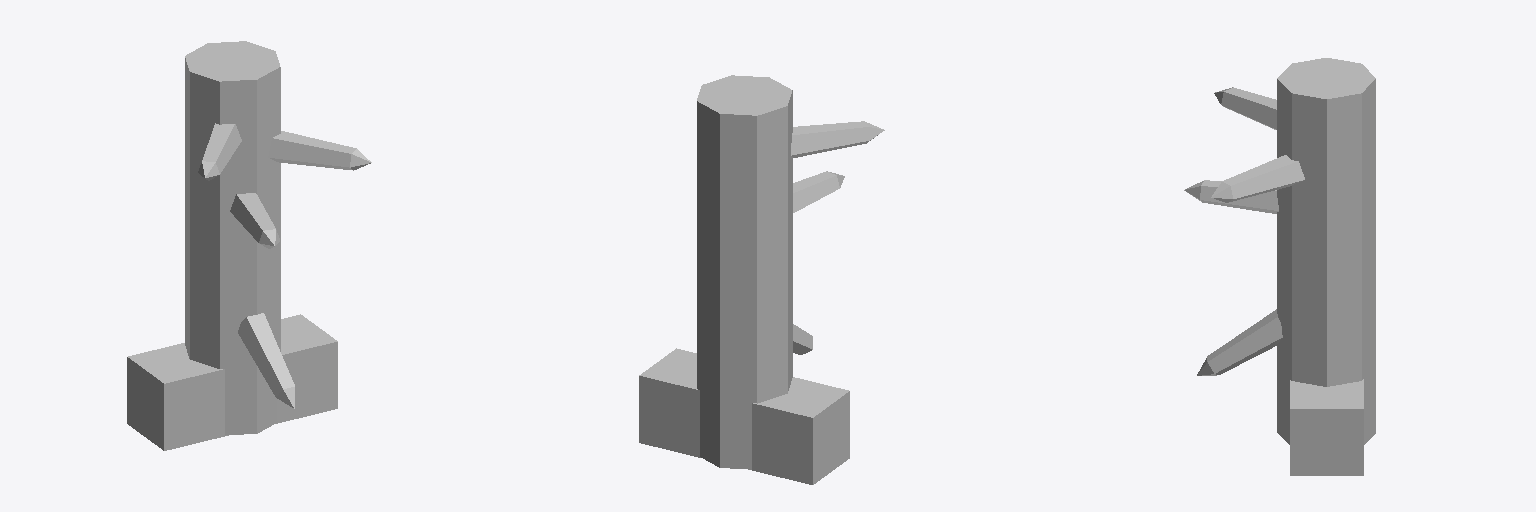
File: training_post.obj
The picture shows the model from 3 angles: view 1: azimuth 30°, elevation 25°; view 2: azimuth 150°, elevation 25°; view 3: azimuth 270°, elevation 25°; orthographic projection.
Parts seen in each view (by area): view 1: Post, Arms; view 2: Post, Arms; view 3: Post, Arms.
Part boxes in pixels (left/top/right/bottom): Post: left=127, top=41, right=337, bottom=450; Arms: left=198, top=123, right=371, bottom=408; Post: left=639, top=75, right=849, bottom=484; Arms: left=791, top=121, right=884, bottom=354; Post: left=1277, top=58, right=1375, bottom=475; Arms: left=1184, top=87, right=1304, bottom=375.
Bounding box in the file's own units: 0.9799 × 1.91 × 0.9408.